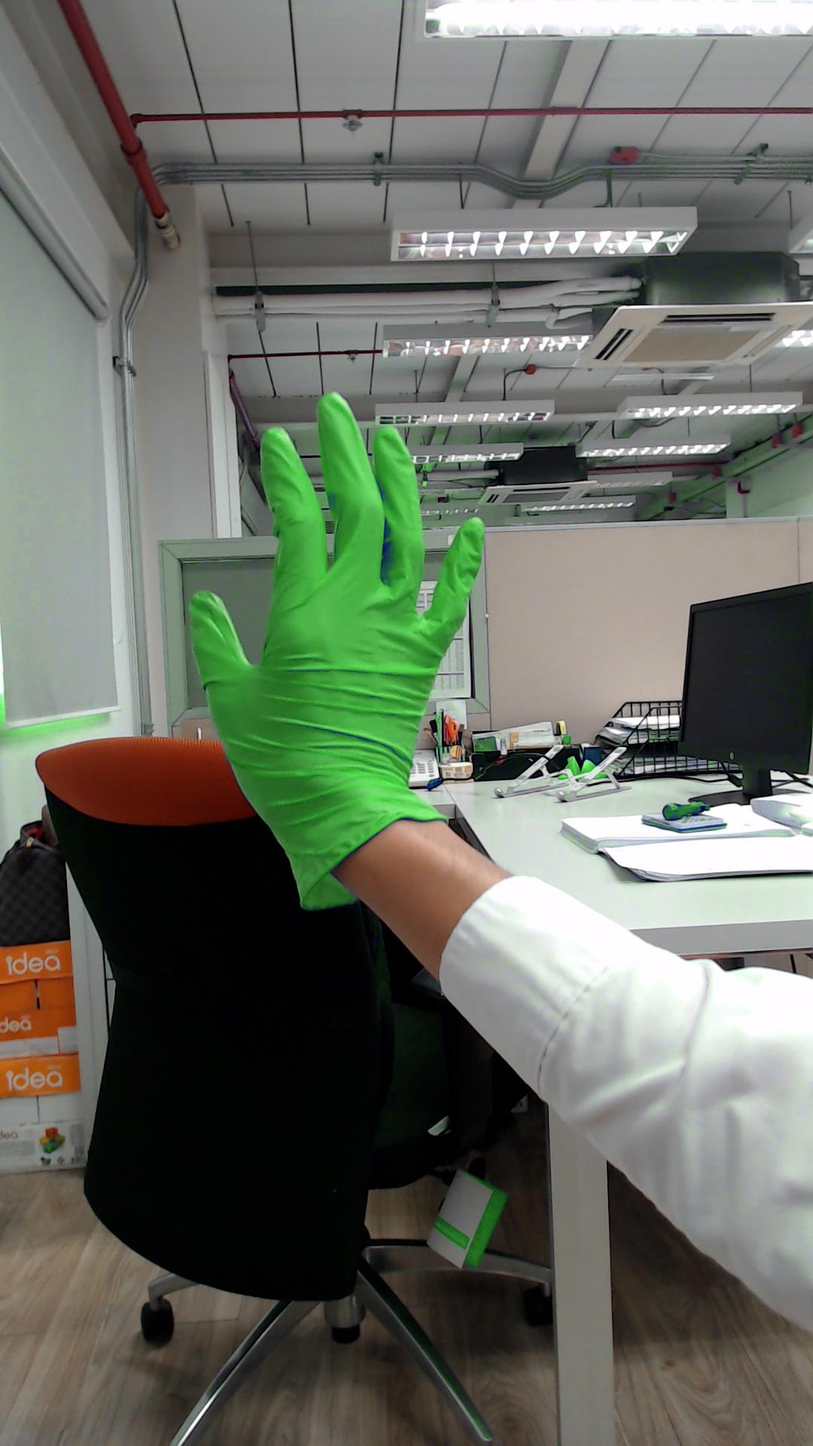gloves: (182, 384, 494, 749)
